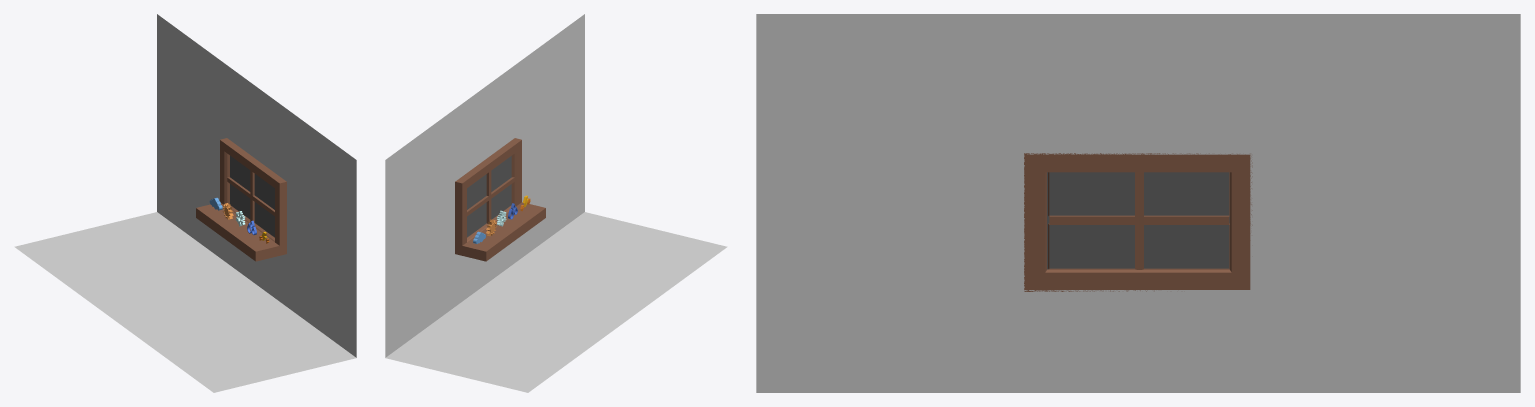
The model's file is windownew.glb.
3 renders of one model, left to right at view 1: azimuth 30°, elevation 25°; view 2: azimuth 150°, elevation 25°; view 3: azimuth 270°, elevation 25°, orthographic. The views are drawn at different scales.
Parts seen in each view (by area): view 1: Plane, Frame, Placer, Glass, Left Frame, Right frame; view 2: Plane, Frame, Placer, Glass, Right frame, Left Frame; view 3: Plane, Glass, Frame, Right frame, Left Frame.
Part boxes in pixels (x1,y1,x2,y2): Plane: [14, 14, 356, 392]; Frame: [220, 138, 286, 255]; Placer: [196, 203, 279, 261]; Glass: [230, 155, 274, 237]; Left Frame: [227, 154, 251, 222]; Right frame: [251, 171, 274, 239]; Plane: [385, 14, 727, 392]; Frame: [455, 138, 521, 255]; Placer: [462, 202, 545, 261]; Glass: [467, 156, 511, 237]; Right frame: [490, 154, 514, 220]; Left Frame: [467, 172, 489, 239]; Plane: [756, 14, 1520, 392]; Glass: [1047, 172, 1229, 269]; Frame: [1024, 153, 1252, 291]; Right frame: [1048, 172, 1139, 269]; Left Frame: [1139, 172, 1229, 269].
Size of the model in its own units: 17.95 by 23.76 by 43.43.
